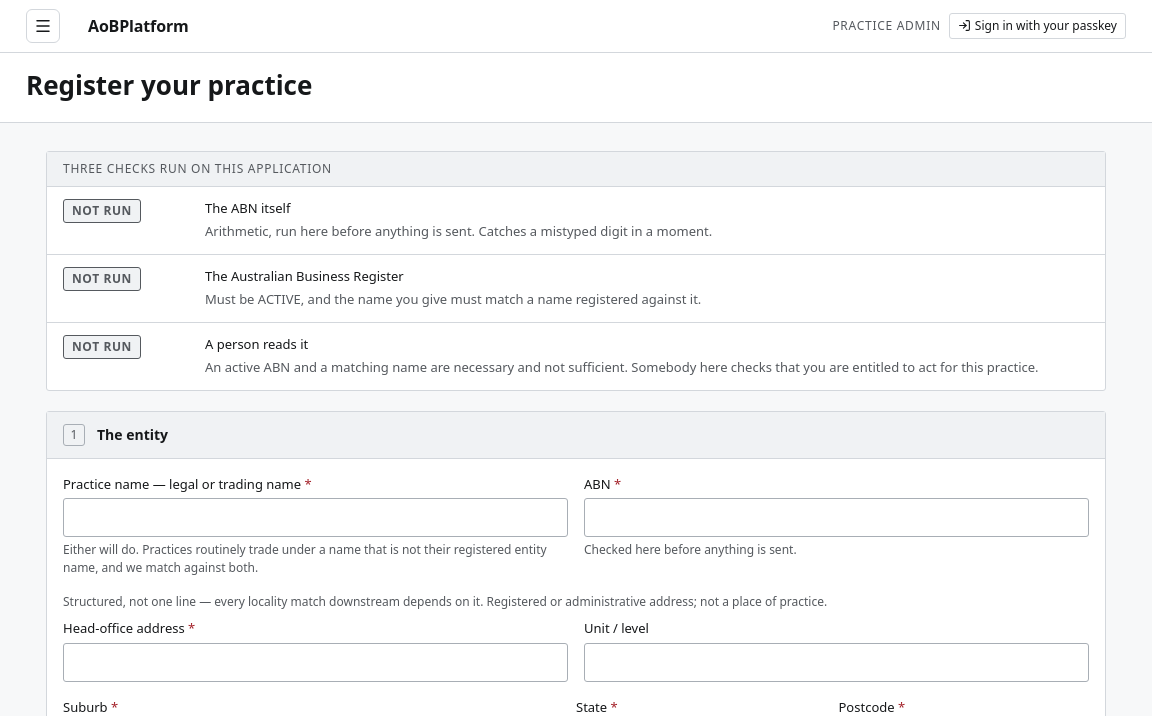
the ABN preview › never claims the practice is certified, approved or accredited
In the field with test id "apply-abn": (836, 518) [584,498,1089,537], type "51824753556"
Wait 500 ms
(page scrolled)
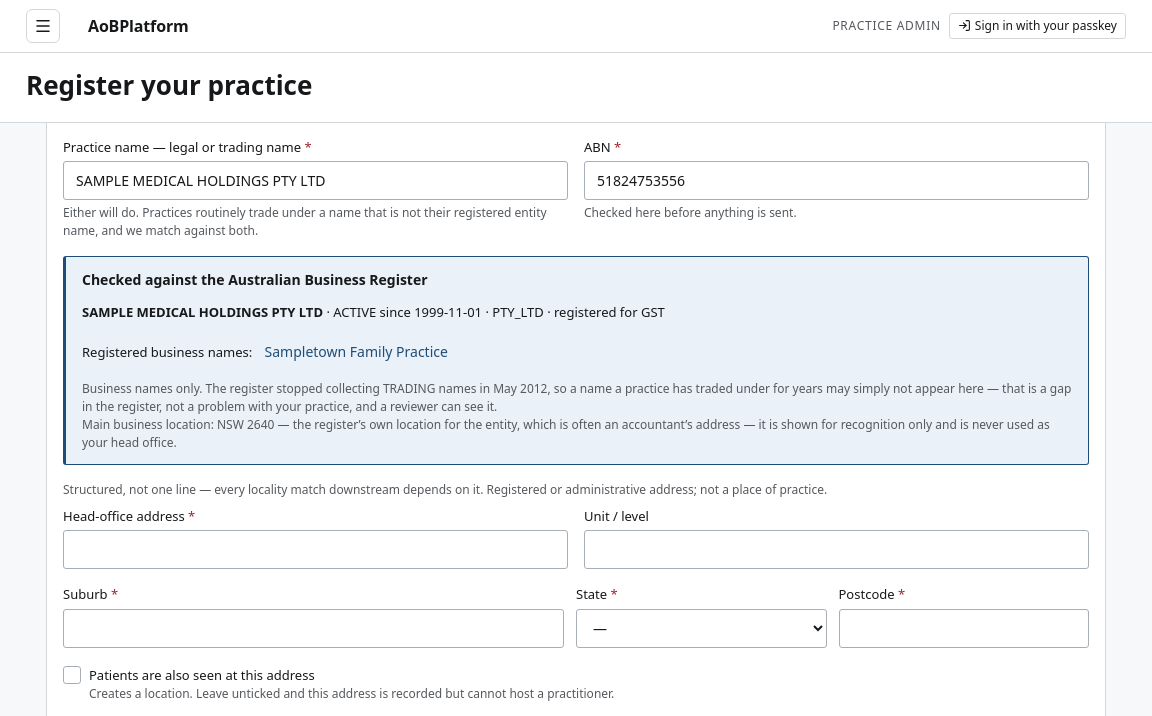
Now the message with test id "apply-abr-found" shows "Checked against the Australian Business Register", box [82,270,428,289]
